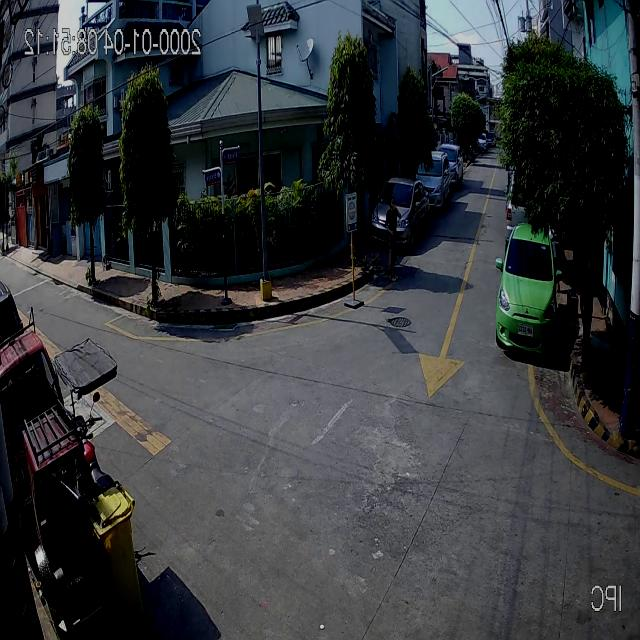standing: (385, 195, 402, 282)
